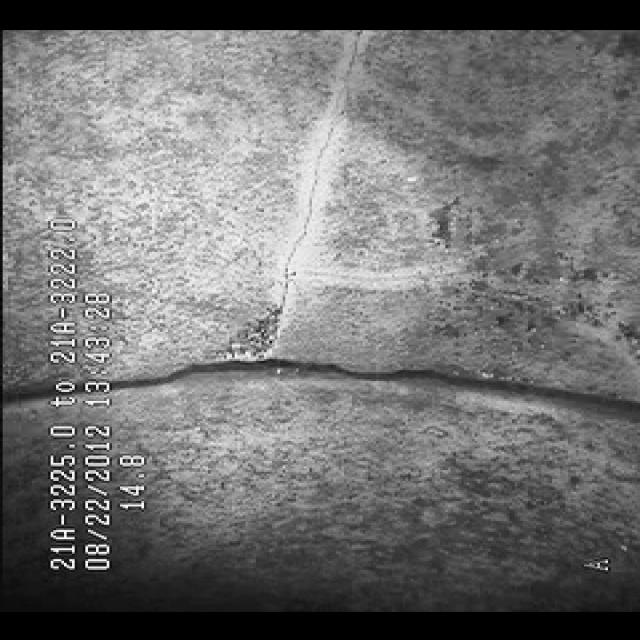Crack: (219, 52, 379, 330)
